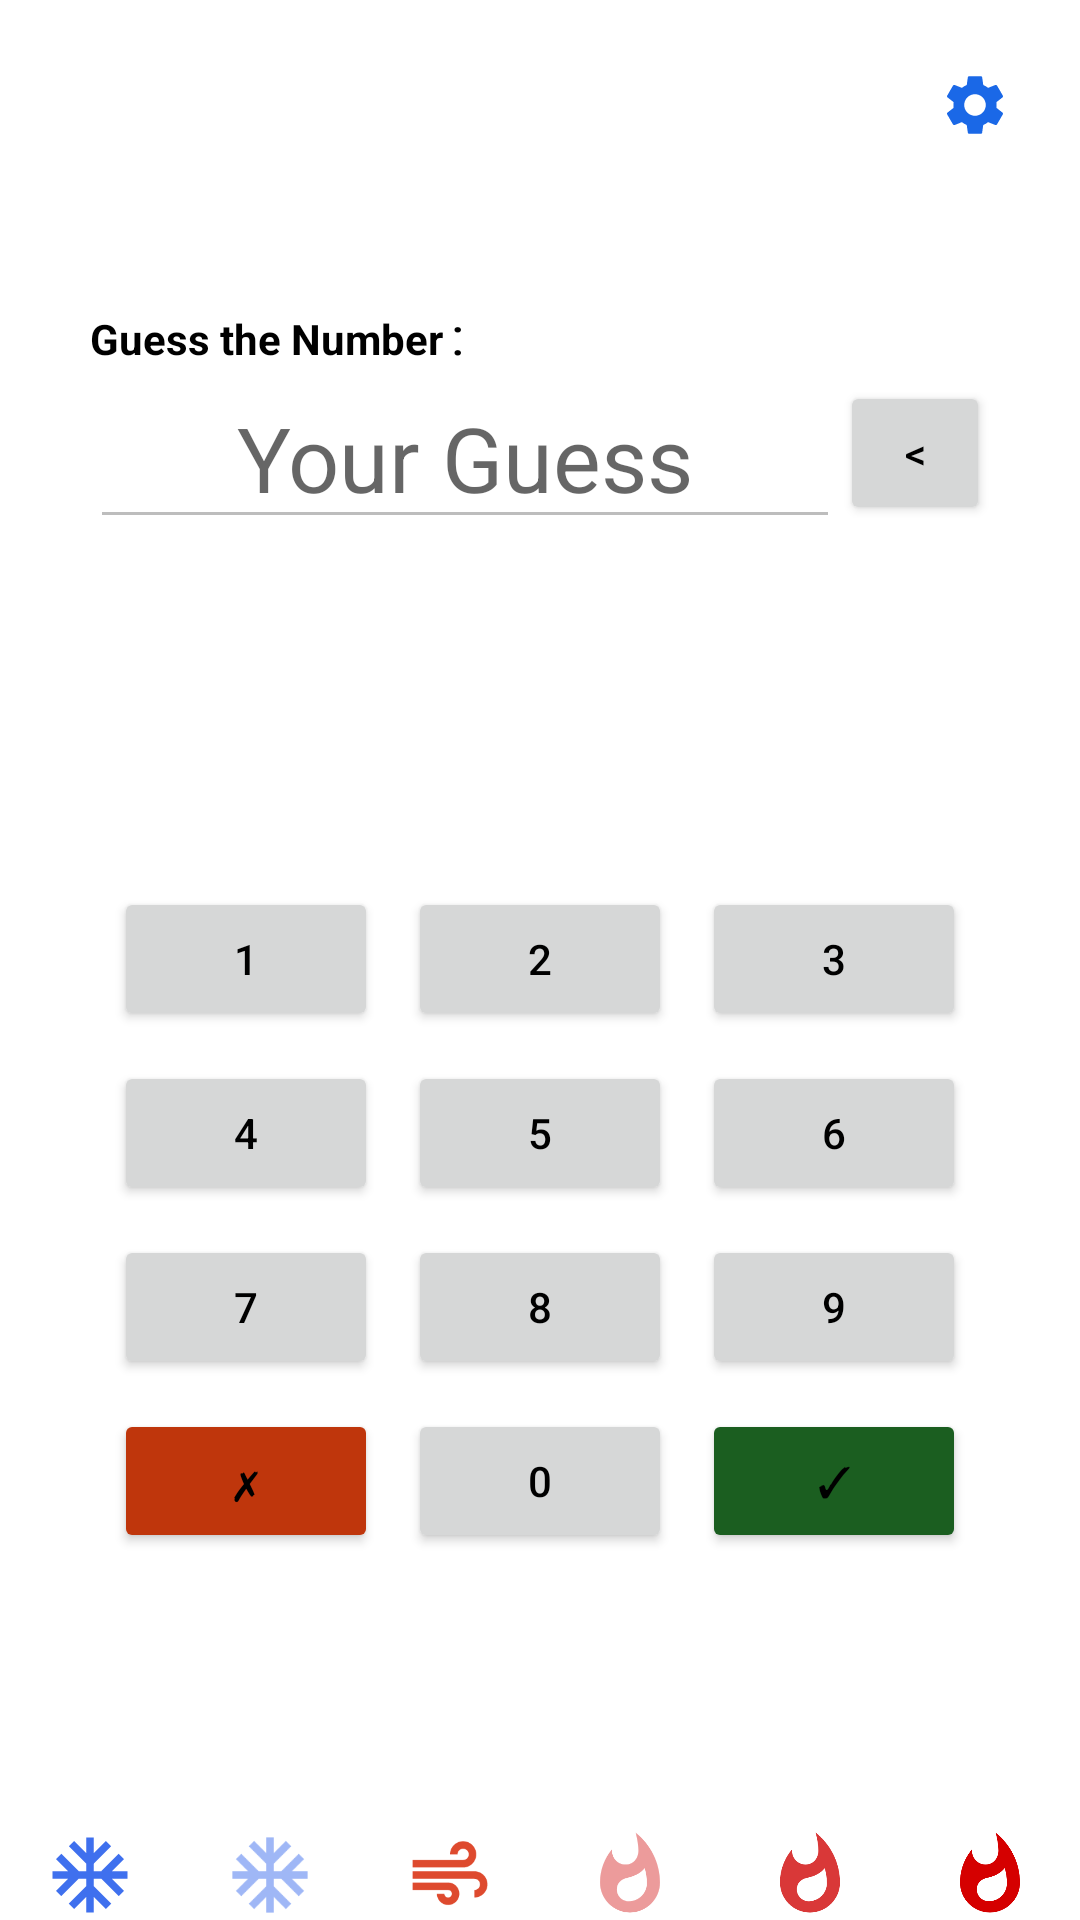

Point at icon controls on the screen. Image size 1080w x 1920h, points as (x=x, y=y).
cold: (x=90, y=1875)
coldish: (x=270, y=1875)
hot: (x=810, y=1873)
hotish: (x=630, y=1873)
settings: (x=975, y=105)
super hot: (x=990, y=1873)
